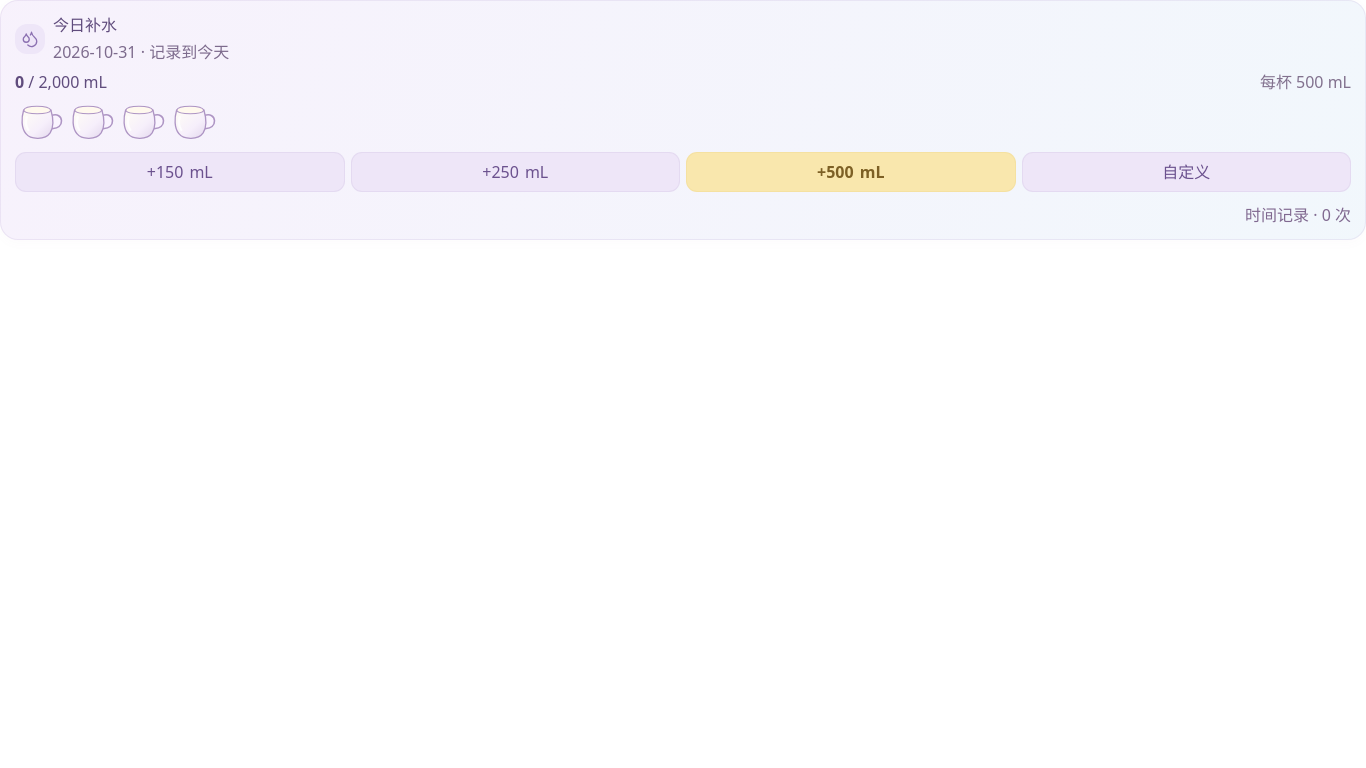
Test: custom boundary 1 persists after successful Enter
Click the button "自定义".
click(1186, 172)  # box [1022,152,1351,192]
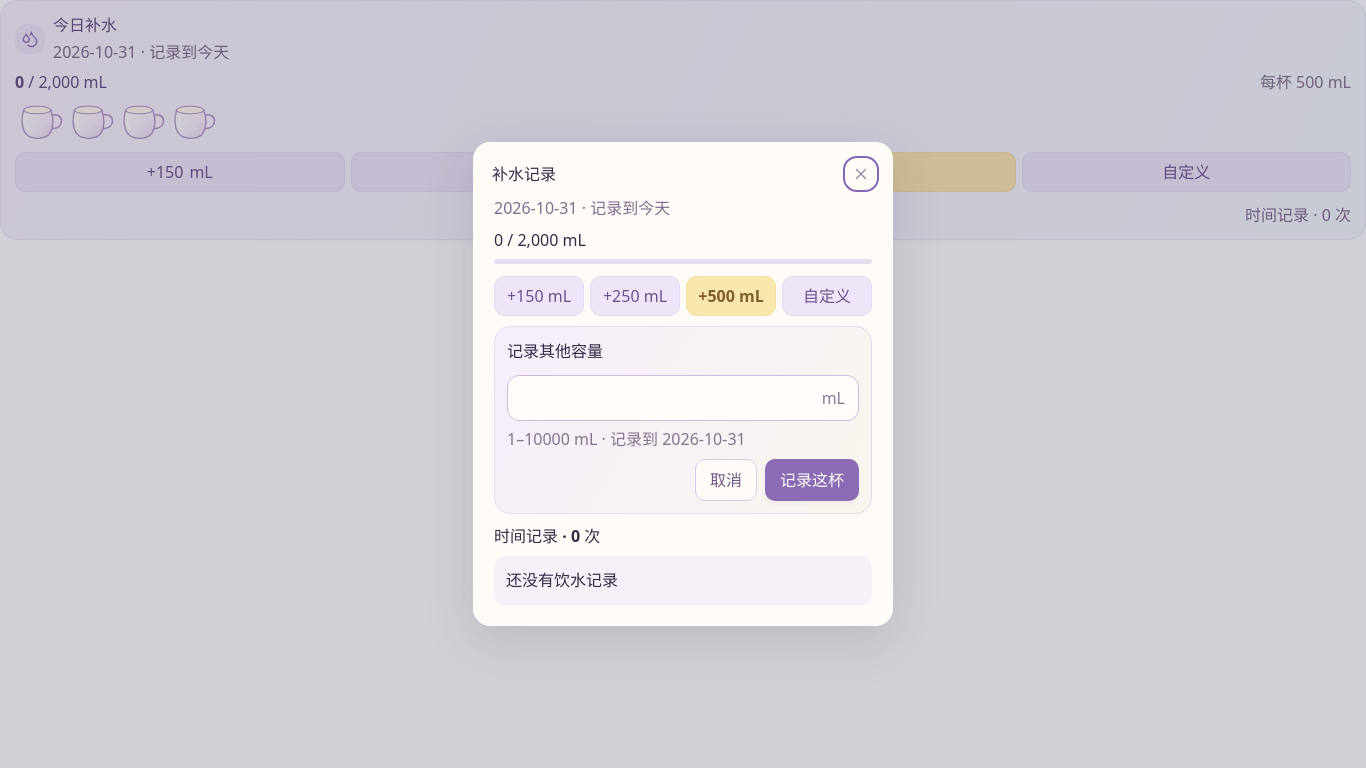
Type "1" into the field named "自定义饮水容量".
click(667, 398); type("1")  # box [521,376,814,420]
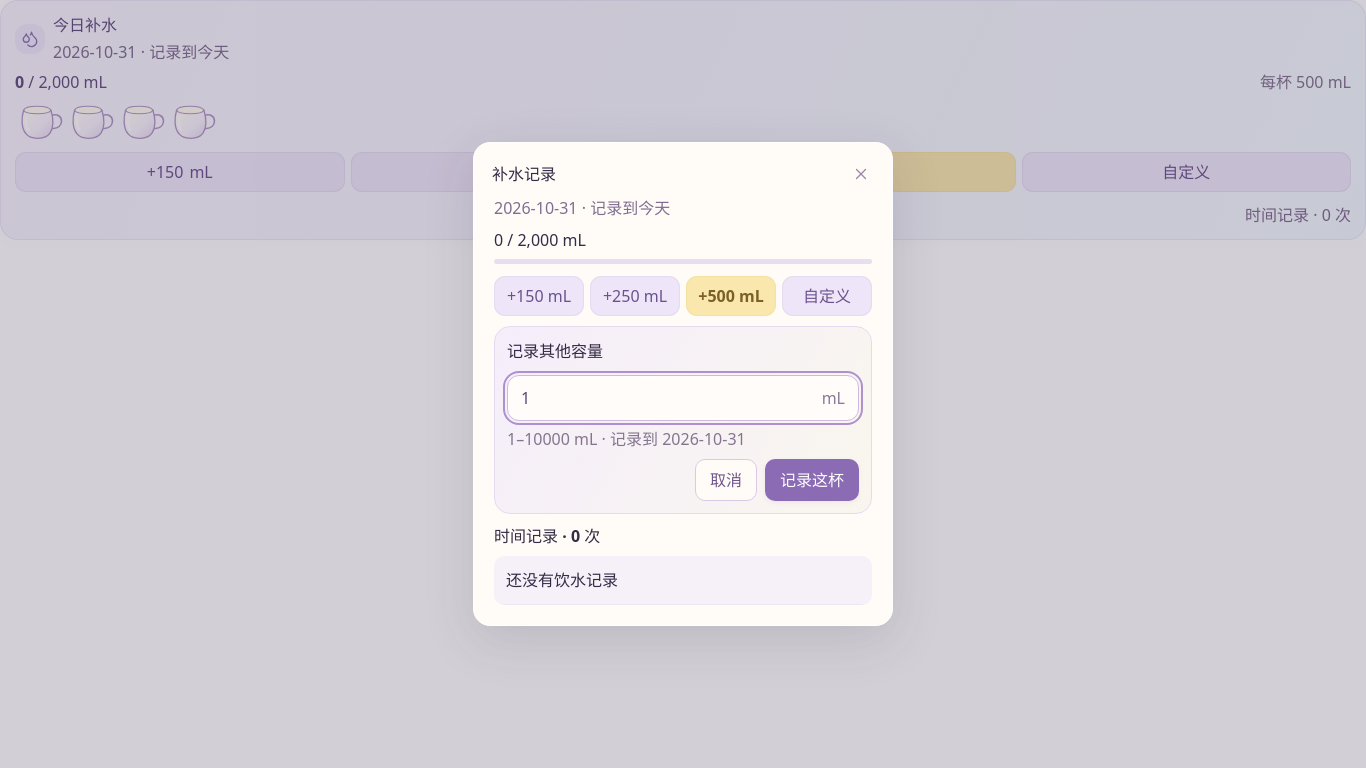
Press Enter
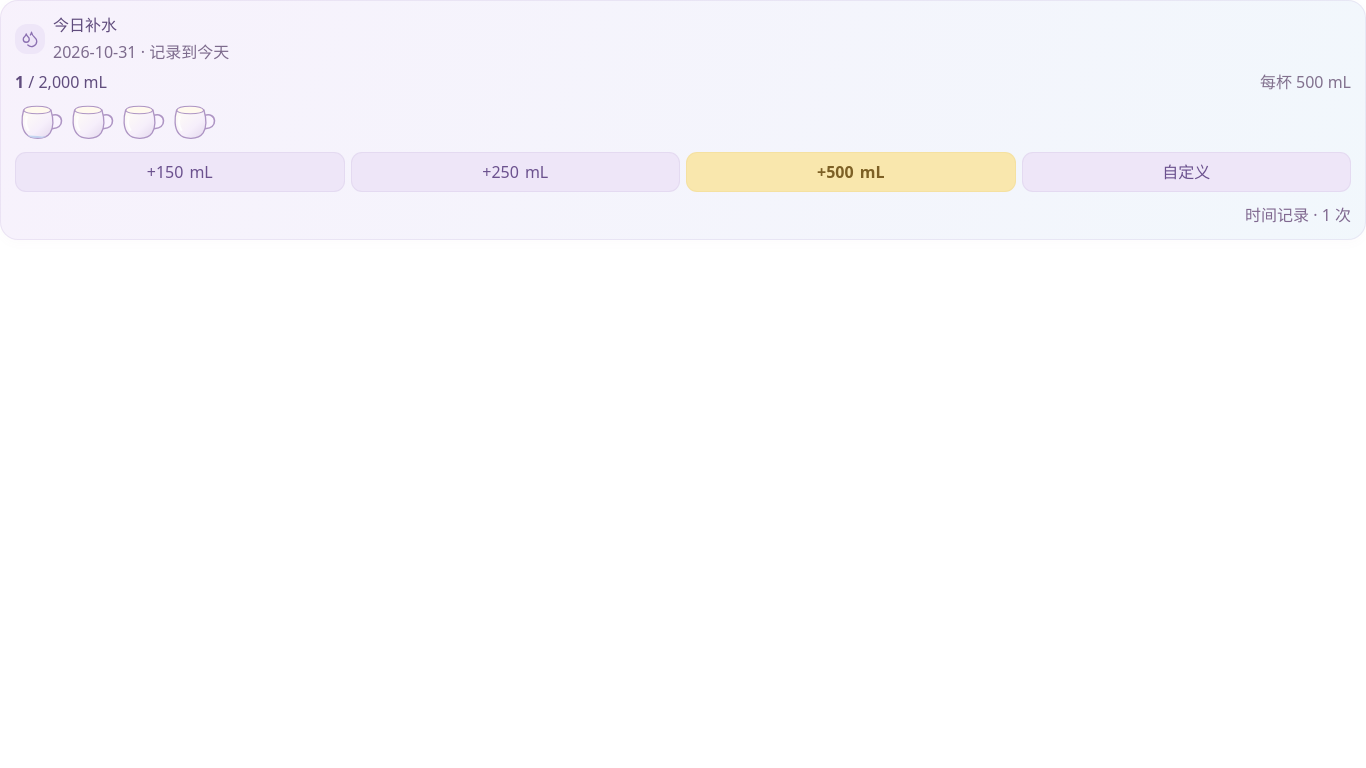
Check: the dialog is gone
